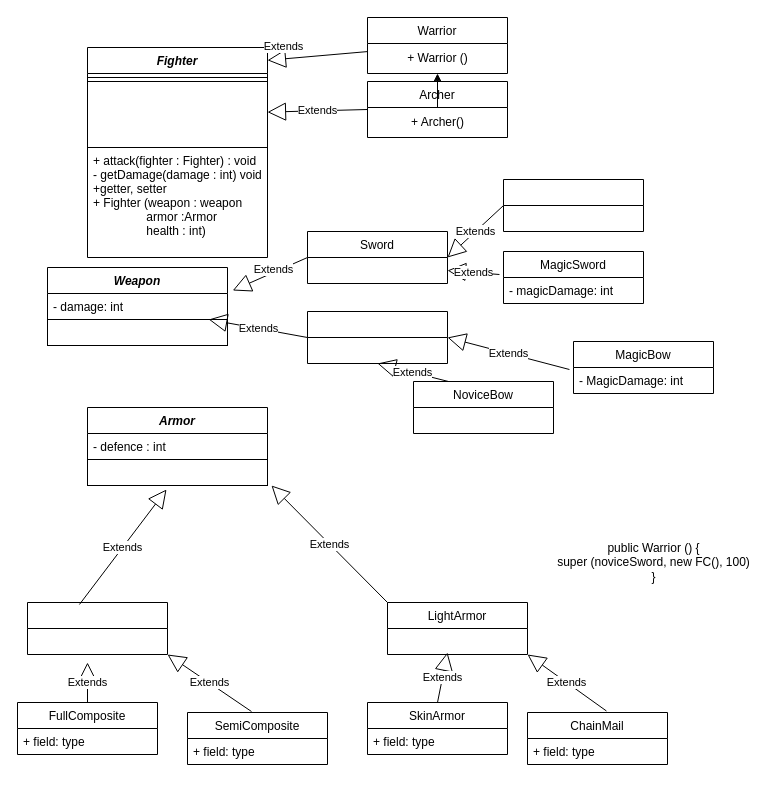
This 781x785 diagram has some shape labels left out. Here are the shapes that lost their labels. From the top down, the centre of each, then its label:
point (177, 114): - weapon: Weapon - armor : Armor - health : int - isAlive : boolean
point (573, 205): NoviceSword
point (137, 332): + Weapon(damage : int) : void
point (377, 337): Bow
point (177, 472): + Armor(damage : int) : void
point (97, 628): HeavyArmor
